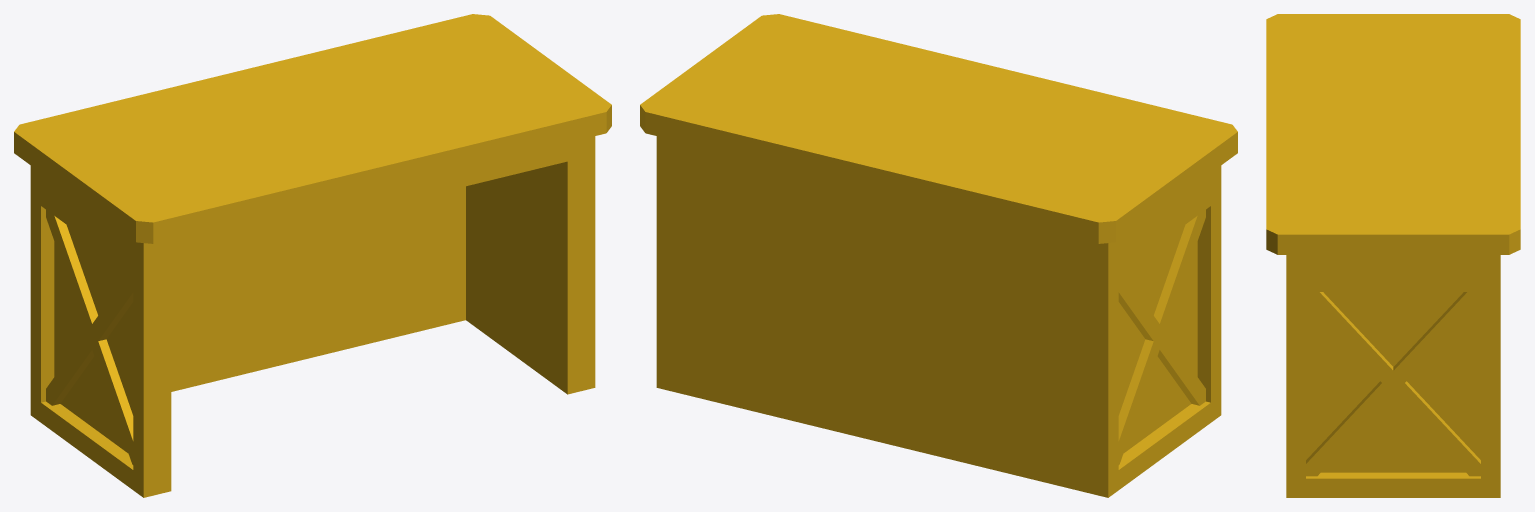
File: CTS_E_KitchenIsland.fbx
The picture shows the model from 3 angles, left to right: view 1: azimuth 30°, elevation 25°; view 2: azimuth 150°, elevation 25°; view 3: azimuth 270°, elevation 25°; orthographic projection. The views are drawn at different scales.
Visible parts, largest first — view 1: CTS_E_KitchenIsland; view 2: CTS_E_KitchenIsland; view 3: CTS_E_KitchenIsland.
Boxes of the visible parts, bbox=[...] form: CTS_E_KitchenIsland: bbox=[14, 14, 611, 497]; CTS_E_KitchenIsland: bbox=[640, 14, 1237, 497]; CTS_E_KitchenIsland: bbox=[1266, 14, 1520, 497].
Size of the model in its own units: 190 by 108 by 92.36.
